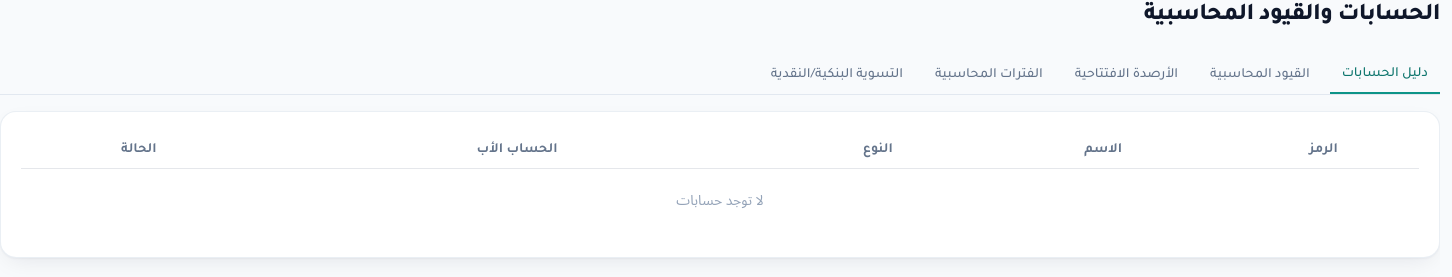
Test case: AccountingPage - Opening Balances / Fiscal Periods tabs › Opening Balances tab hides the "record" action without accounting.opening_balance.manage
What coordinates should you click on to do the following:
click the button "الأرصدة الافتتاحية"
I would click on:
 (1126, 75)
Its box is [1063,56,1190,94].
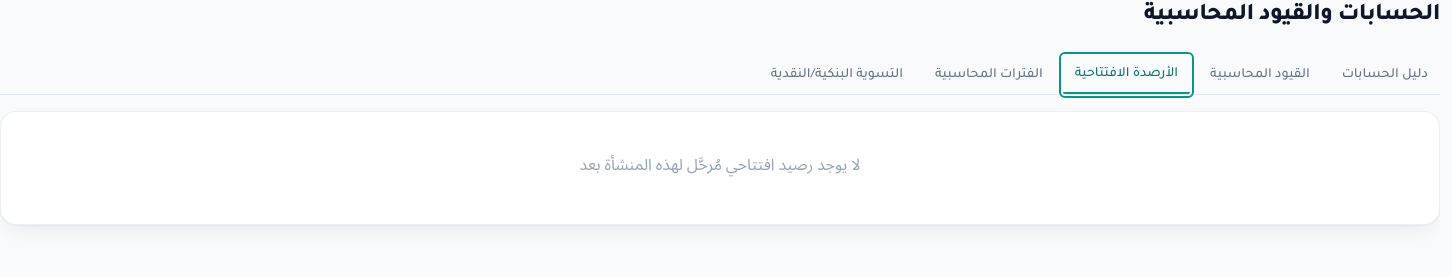
expect the text "لا يوجد رصيد افتتاحي مُرحَّل لهذه المنشأة بعد" is shown: met, box [580,160,860,176]
